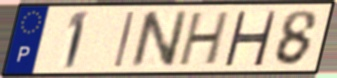1: (65, 10, 91, 71)
8: (274, 9, 319, 68)
H: (175, 10, 233, 69), (221, 10, 279, 68)
I: (112, 10, 137, 69)
N: (128, 8, 191, 70)
